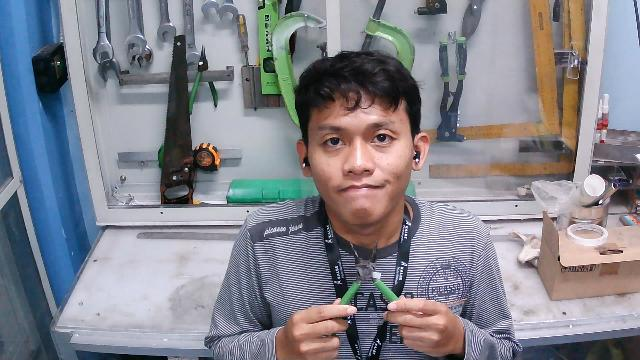tang_cucut_lancip_1: (322, 236, 411, 326)
